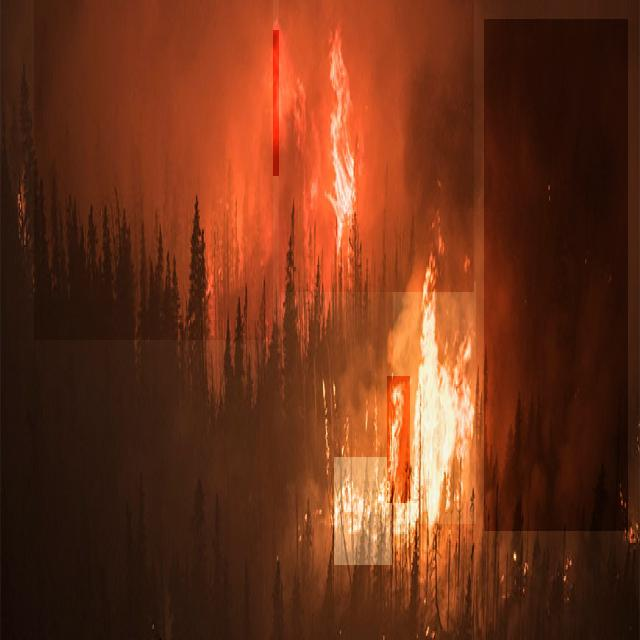Fire: (393, 281, 476, 524), (271, 30, 334, 176), (325, 43, 360, 228), (334, 457, 392, 565), (387, 376, 410, 503)
Smoke: (34, 0, 273, 340), (484, 19, 628, 531), (279, 0, 474, 292)
